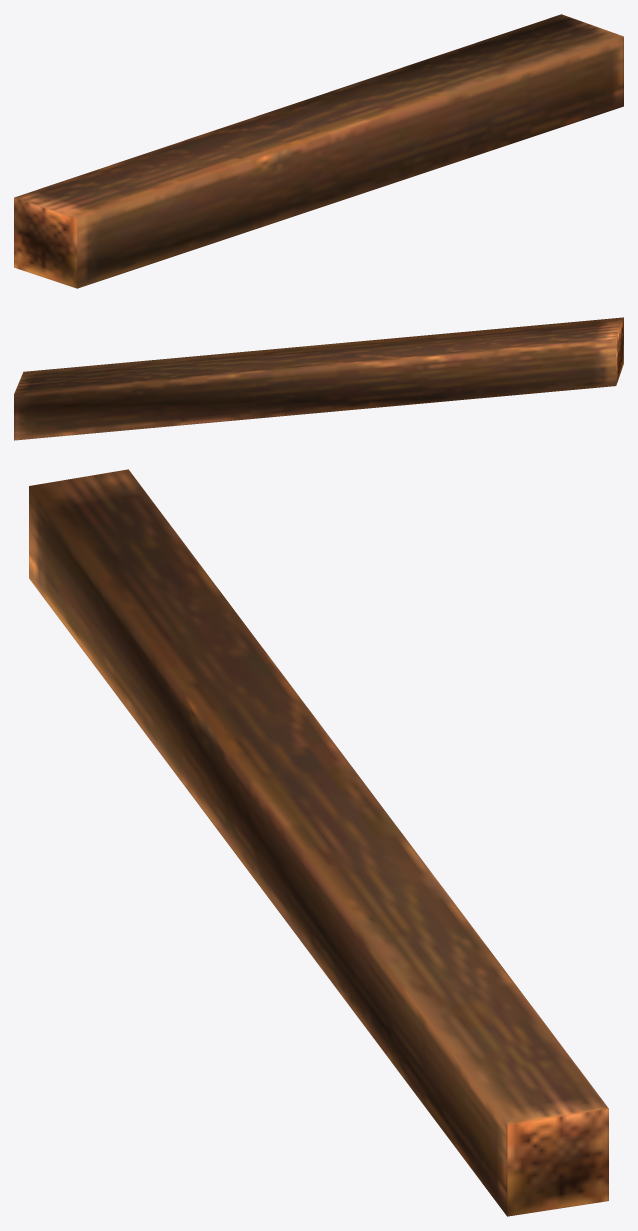
File: SWORDLIGHT20_JAILBRACE53.fbx
3 renders of one model, top to bottom at view 1: azimuth 30°, elevation 25°; view 2: azimuth 150°, elevation 25°; view 3: azimuth 270°, elevation 25°, orthographic. The views are drawn at different scales.
Visible parts, largest first — view 1: SWORDLIGHT20_JAILBRACE53; view 2: SWORDLIGHT20_JAILBRACE53; view 3: SWORDLIGHT20_JAILBRACE53.
Part boxes in pixels (x1,y1,x2,y2): SWORDLIGHT20_JAILBRACE53: (14, 14, 623, 288); SWORDLIGHT20_JAILBRACE53: (14, 317, 623, 440); SWORDLIGHT20_JAILBRACE53: (29, 469, 608, 1216).
Bounding box in the file's own units: 45061 × 11286 × 22706.
1 material, 1 textured.
